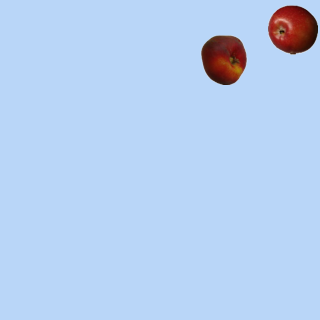Apple Braeburn: (267, 4, 317, 54)
Nectarine Flat: (198, 34, 248, 84)
